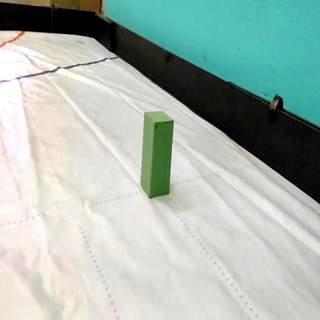greenbox: (140, 109, 173, 200)
